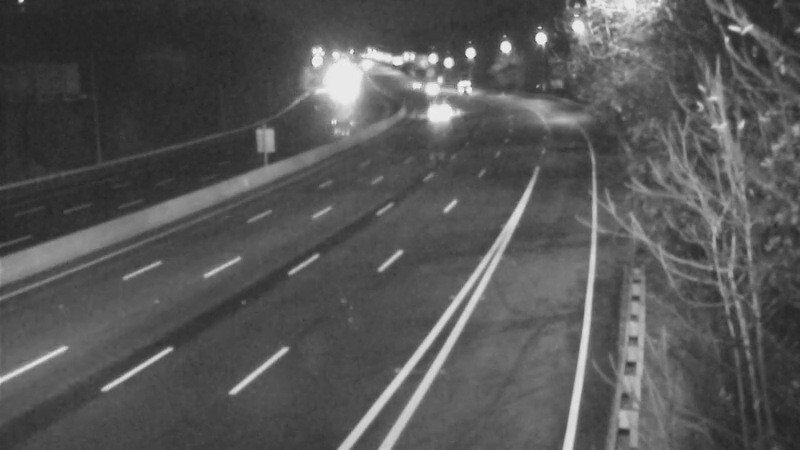vehicle: (390, 58, 440, 108), (442, 62, 492, 112), (407, 62, 457, 112), (407, 86, 457, 136), (315, 67, 365, 117)
